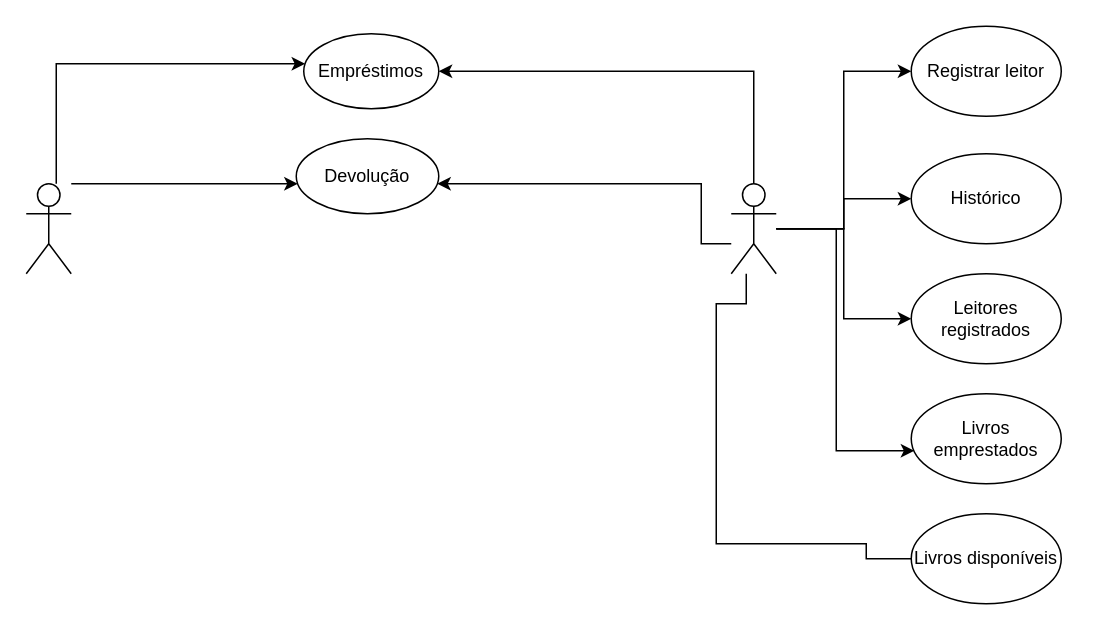
The diagram is 1100 pixels wide and 630 high, and some of its shapes have lost their labels. Here are the shapes that lost their labels. From the top down, the box of each, then its label:
(25, 182, 71, 274): Leitor
(730, 182, 776, 274): Bibliotecario
